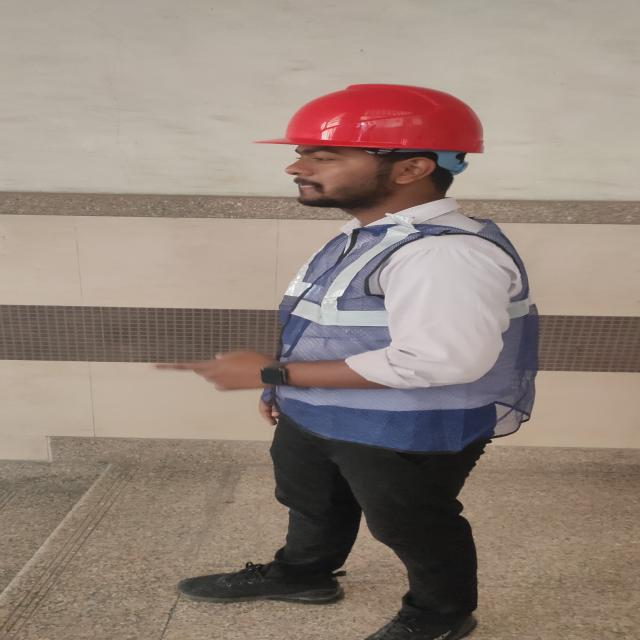safe: (252, 84, 539, 640)
